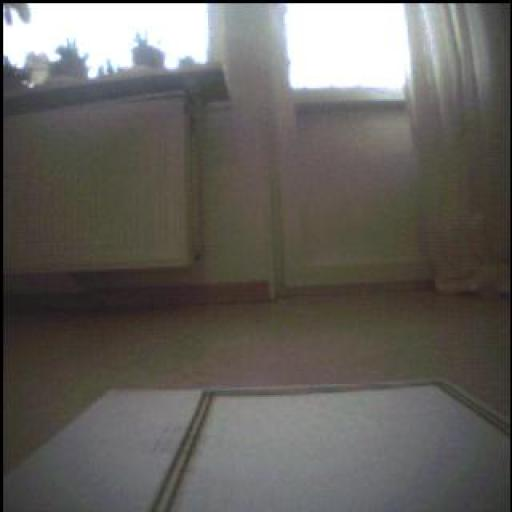Pad: (1, 385, 506, 512)
